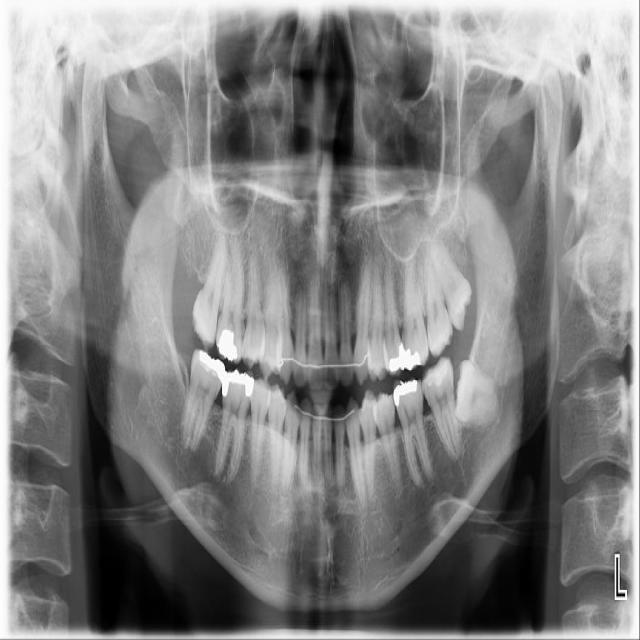Filling: (194, 350, 225, 387), (424, 359, 451, 388), (394, 380, 419, 407), (217, 333, 239, 361), (386, 345, 404, 374), (403, 347, 421, 370)
impacted tooth: (454, 360, 502, 426)
